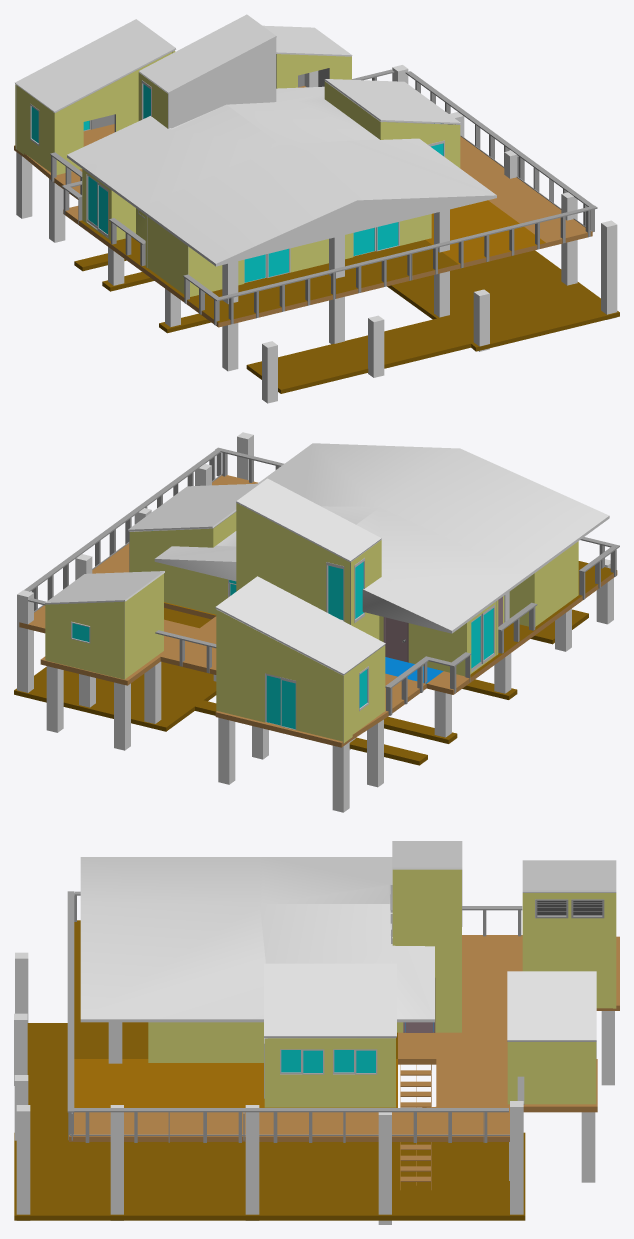
File: BaldwinLight.fbx
The picture shows the model from 3 angles, top to bottom: view 1: azimuth 30°, elevation 25°; view 2: azimuth 150°, elevation 25°; view 3: azimuth 270°, elevation 25°; orthographic projection. The views are drawn at different scales.
Parts seen in each view (by area): view 1: pCube560, pCube1434, pCube1423, pCube565, pCube587, pCube1352, pCube566, pCube561, pCube575, pCube466, pCube584, pCube446 (+22 smaller); view 2: pCube560, pCube587, pCube1423, pCube1434, pCube584, pCube1352, pCube565, pCube566, pCube575, pCube561, pCube564, pCube466 (+26 smaller); view 3: pCube560, pCube1434, pCube1423, pCube561, pCube1352, pCube575, pCube587, pCube564, pCube584, pCube435, pCube565, pCube590 (+21 smaller).
Boxes of the visible parts, left/top/right/bottom form: pCube560: left=67, top=86, right=496, bottom=266; pCube1434: left=74, top=250, right=619, bottom=393; pCube1423: left=14, top=86, right=592, bottom=327; pCube565: left=15, top=19, right=176, bottom=112; pCube587: left=15, top=50, right=175, bottom=174; pCube1352: left=138, top=38, right=276, bottom=128; pCube566: left=139, top=14, right=276, bottom=93; pCube561: left=324, top=79, right=460, bottom=124; pCube575: left=324, top=81, right=460, bottom=167; pCube466: left=147, top=216, right=188, bottom=294; pCube584: left=276, top=54, right=351, bottom=88; pCube446: left=188, top=240, right=322, bottom=296; pCube560: left=154, top=443, right=609, bottom=633; pCube587: left=216, top=609, right=385, bottom=743; pCube1423: left=19, top=475, right=617, bottom=747; pCube1434: left=14, top=608, right=588, bottom=765; pCube584: left=45, top=574, right=163, bottom=679; pCube1352: left=236, top=503, right=381, bottom=639; pCube565: left=215, top=576, right=385, bottom=675; pCube566: left=236, top=478, right=381, bottom=561; pCube575: left=129, top=511, right=236, bottom=613; pCube561: left=128, top=483, right=259, bottom=531; pCube564: left=45, top=571, right=164, bottom=604; pCube466: left=536, top=541, right=578, bottom=625; pCube560: left=80, top=857, right=434, bottom=1022; pCube1434: left=14, top=1023, right=525, bottom=1220; pCube1423: left=69, top=920, right=619, bottom=1141; pCube561: left=264, top=963, right=396, bottom=1037; pCube1352: left=392, top=869, right=461, bottom=1032; pCube575: left=264, top=1037, right=395, bottom=1107; pCube587: left=522, top=892, right=616, bottom=1008; pCube564: left=507, top=971, right=596, bottom=1041; pCube584: left=507, top=1041, right=596, bottom=1104; pCube435: left=148, top=1022, right=263, bottom=1062; pCube565: left=522, top=860, right=616, bottom=891; pCube590: left=73, top=1108, right=508, bottom=1112.
Size of the model in its own units: 256 by 140 by 298.
